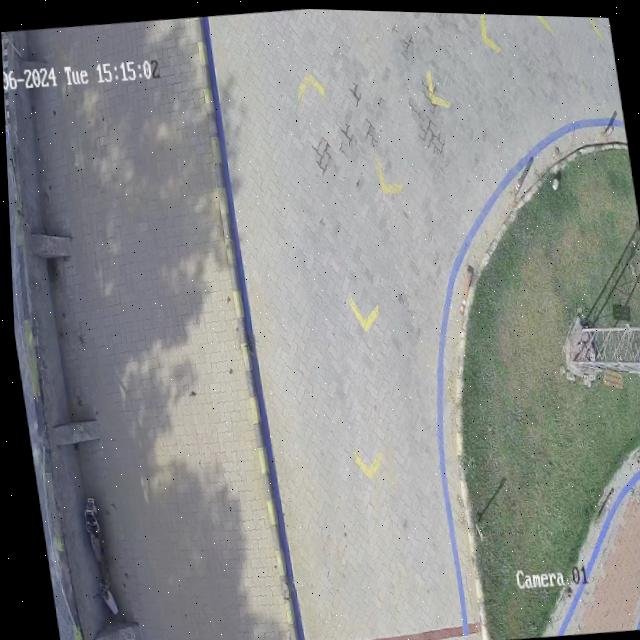No Car: (1, 7, 640, 640)
